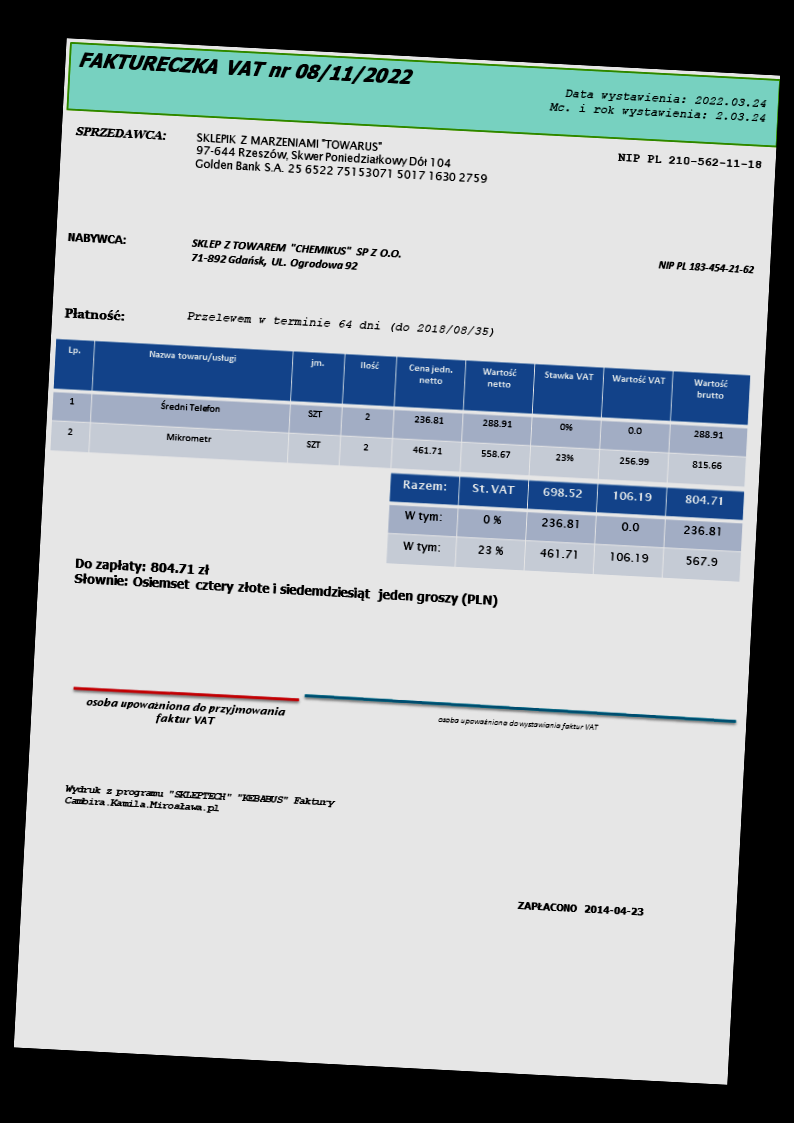Table: (49, 335, 751, 486), (384, 471, 746, 585)
TextBox: (70, 556, 502, 611), (192, 130, 491, 188), (75, 47, 415, 89), (61, 780, 336, 823), (184, 308, 495, 338), (547, 84, 769, 126), (188, 236, 401, 275), (82, 694, 288, 733), (434, 714, 602, 735), (614, 150, 763, 172), (515, 898, 647, 918), (72, 122, 167, 143), (655, 257, 755, 276), (64, 228, 128, 247), (63, 304, 126, 323)
